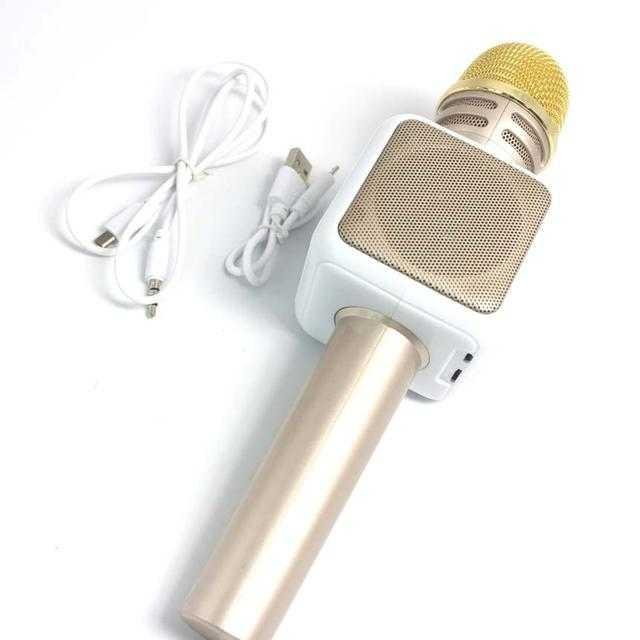microphone: (297, 45, 572, 401)
